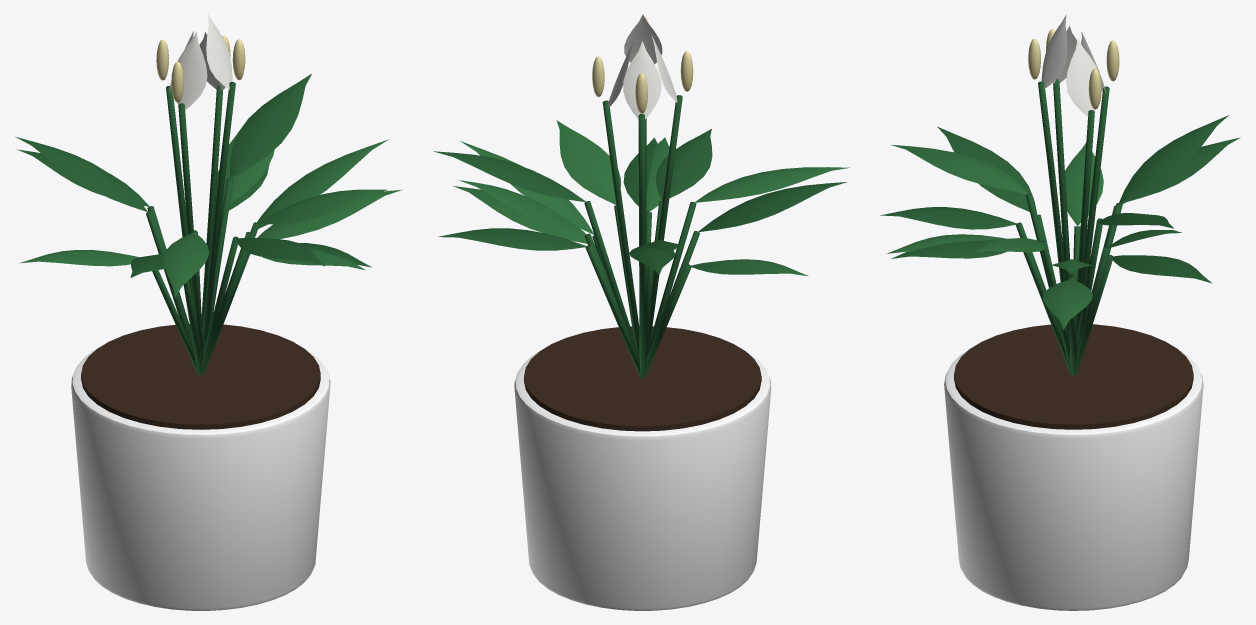
Rendered from plant_peace.glb.
3 renders of one model, left to right at view 1: azimuth 30°, elevation 25°; view 2: azimuth 150°, elevation 25°; view 3: azimuth 270°, elevation 25°, orthographic.
Parts seen in each view (by area): view 1: cyl, cyl.001, leaf.003, leaf.008, leaf.011, tube.017, leaf.002, leaf, leaf.004, tube.014, leaf.016, leaf.007 (+15 smaller); view 2: cyl, cyl.001, leaf.002, leaf.005, leaf, leaf.007, leaf.003, leaf.013, tube.014, leaf.006, leaf.015, tube.016 (+13 smaller); view 3: cyl, cyl.001, leaf.011, leaf, leaf.007, leaf.005, leaf.004, leaf.013, leaf.012, tube.017, leaf.014, leaf.009 (+13 smaller).
Part boxes in pixels (bbox=[...]): cyl: bbox=[71, 349, 330, 610]; cyl.001: bbox=[81, 324, 320, 429]; leaf.003: bbox=[230, 74, 311, 178]; leaf.008: bbox=[257, 139, 388, 228]; leaf.011: bbox=[15, 136, 148, 212]; tube.017: bbox=[202, 82, 235, 351]; leaf.002: bbox=[257, 189, 387, 224]; leaf: bbox=[163, 232, 209, 297]; leaf.004: bbox=[257, 189, 402, 239]; tube.014: bbox=[201, 85, 222, 328]; leaf.016: bbox=[177, 32, 207, 110]; leaf.007: bbox=[236, 237, 324, 266]; cyl: bbox=[514, 352, 771, 610]; cyl.001: bbox=[524, 326, 761, 431]; leaf.002: bbox=[556, 120, 620, 204]; leaf.005: bbox=[697, 182, 846, 232]; leaf: bbox=[694, 167, 849, 202]; leaf.007: bbox=[655, 129, 712, 201]; leaf.003: bbox=[433, 151, 586, 202]; leaf.013: bbox=[438, 228, 587, 250]; tube.014: bbox=[602, 100, 639, 363]; leaf.006: bbox=[458, 180, 587, 235]; leaf.015: bbox=[623, 41, 661, 119]; tube.016: bbox=[647, 95, 682, 356]; cyl: bbox=[944, 348, 1203, 610]; cyl.001: bbox=[954, 324, 1193, 429]; leaf.011: bbox=[1119, 115, 1228, 204]; leaf: bbox=[890, 144, 1028, 194]; leaf.007: bbox=[880, 207, 1018, 229]; leaf.005: bbox=[937, 126, 1037, 213]; leaf.004: bbox=[1042, 279, 1092, 329]; leaf.013: bbox=[1111, 255, 1212, 283]; leaf.012: bbox=[1065, 142, 1103, 226]; tube.017: bbox=[1038, 81, 1069, 340]; leaf.014: bbox=[1066, 38, 1096, 116]; leaf.009: bbox=[1120, 137, 1240, 203].
Size of the model in its own units: 46.21 by 65.52 by 38.93.
